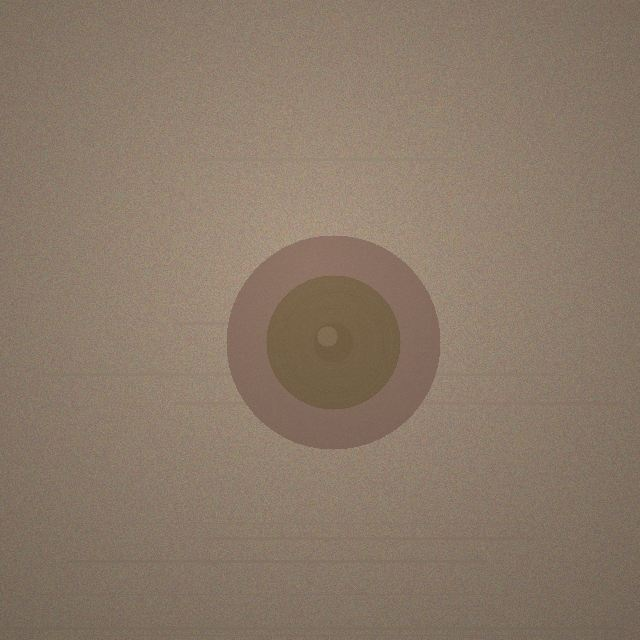good: (226, 235, 440, 449)
